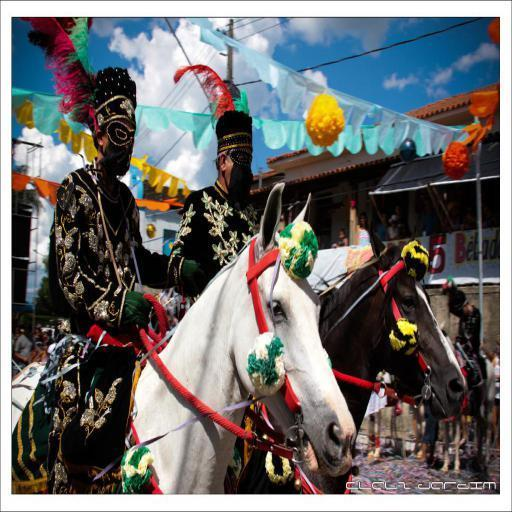horse: (10, 180, 357, 496), (226, 215, 466, 500), (440, 322, 494, 480)
